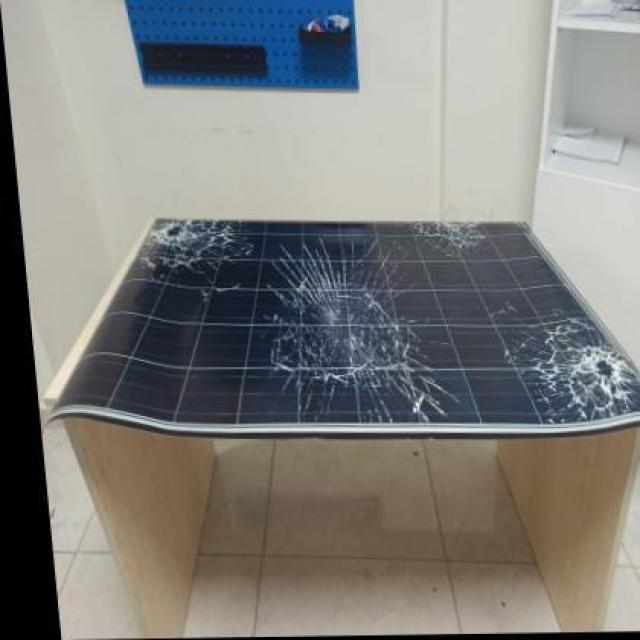cracked: (59, 208, 637, 461)
